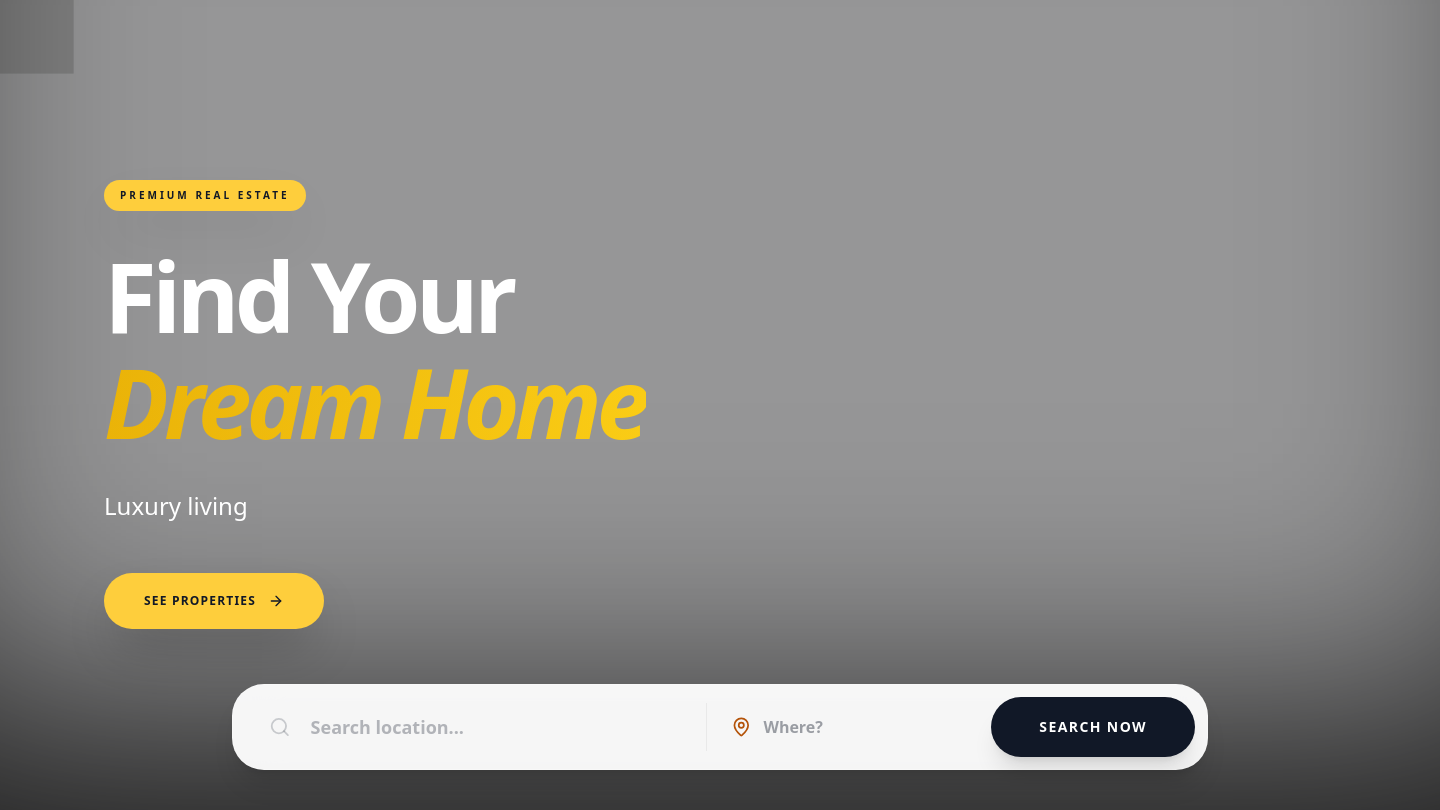
HeroClient › selects a location from the dropdown
Type "Mar" into the field with placeholder "Where?" at (861, 727), box [763,715,959,739]
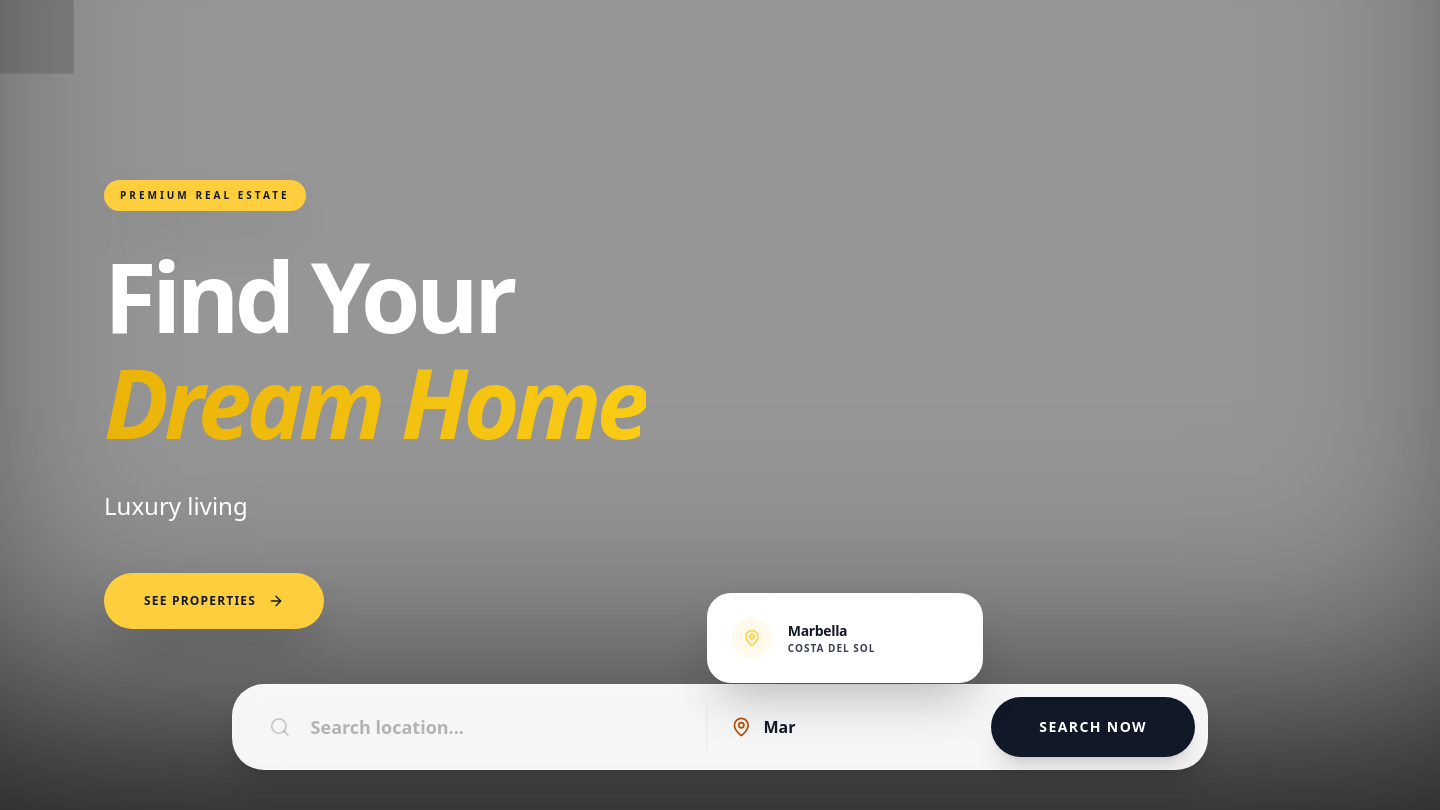
Click the text "Marbella" at (818, 630), box [788,620,847,640]
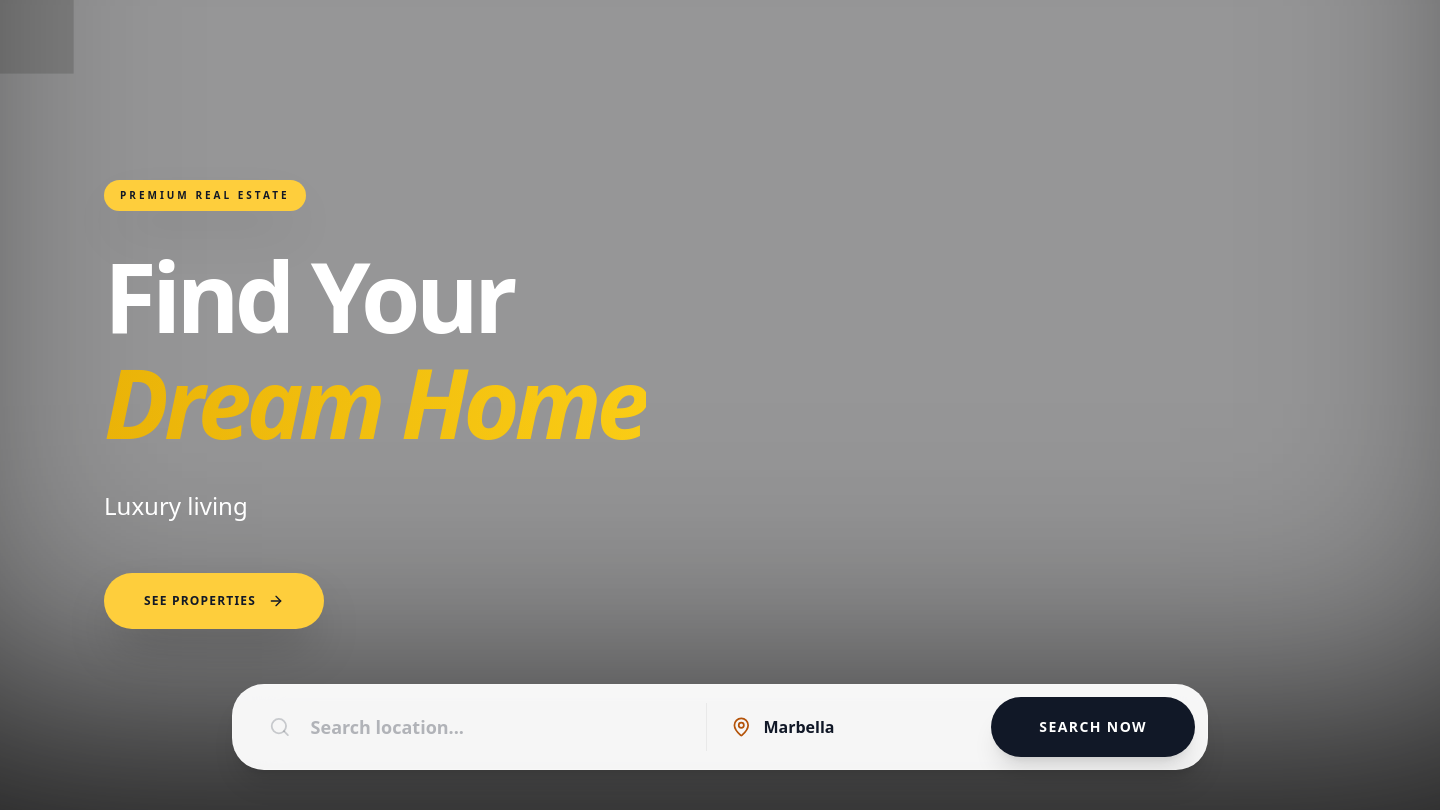
Expected: the field with placeholder "Where?" holds "Marbella", [763,715,959,739]
